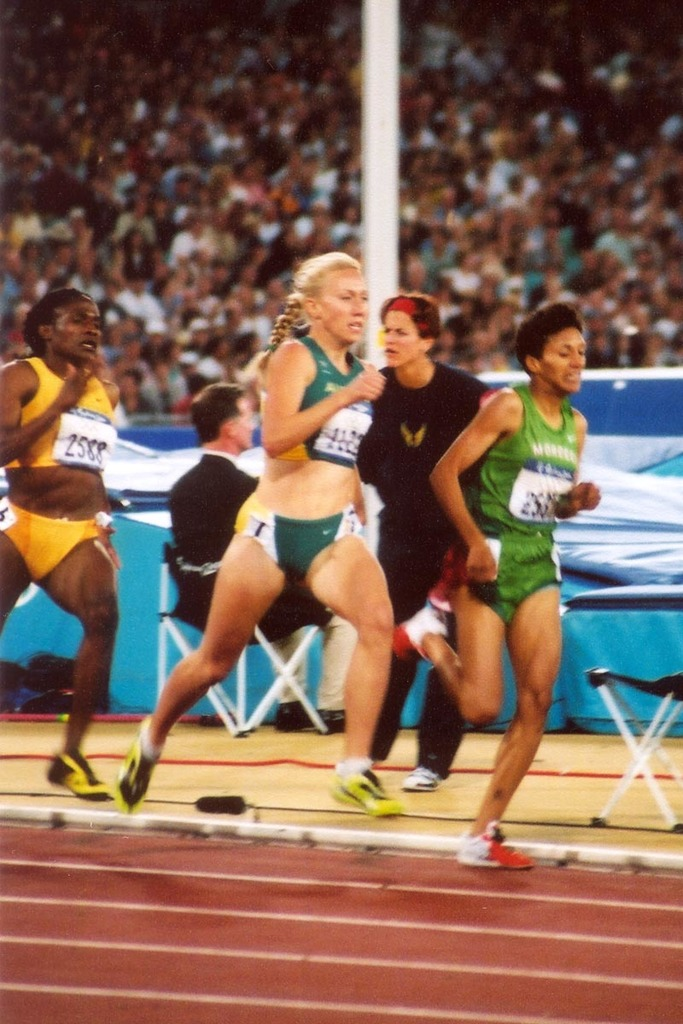Person: (0, 0, 682, 871)
